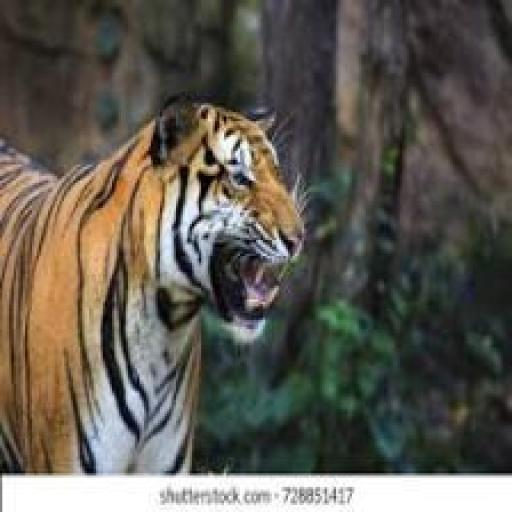Tiger: (0, 103, 304, 472)
